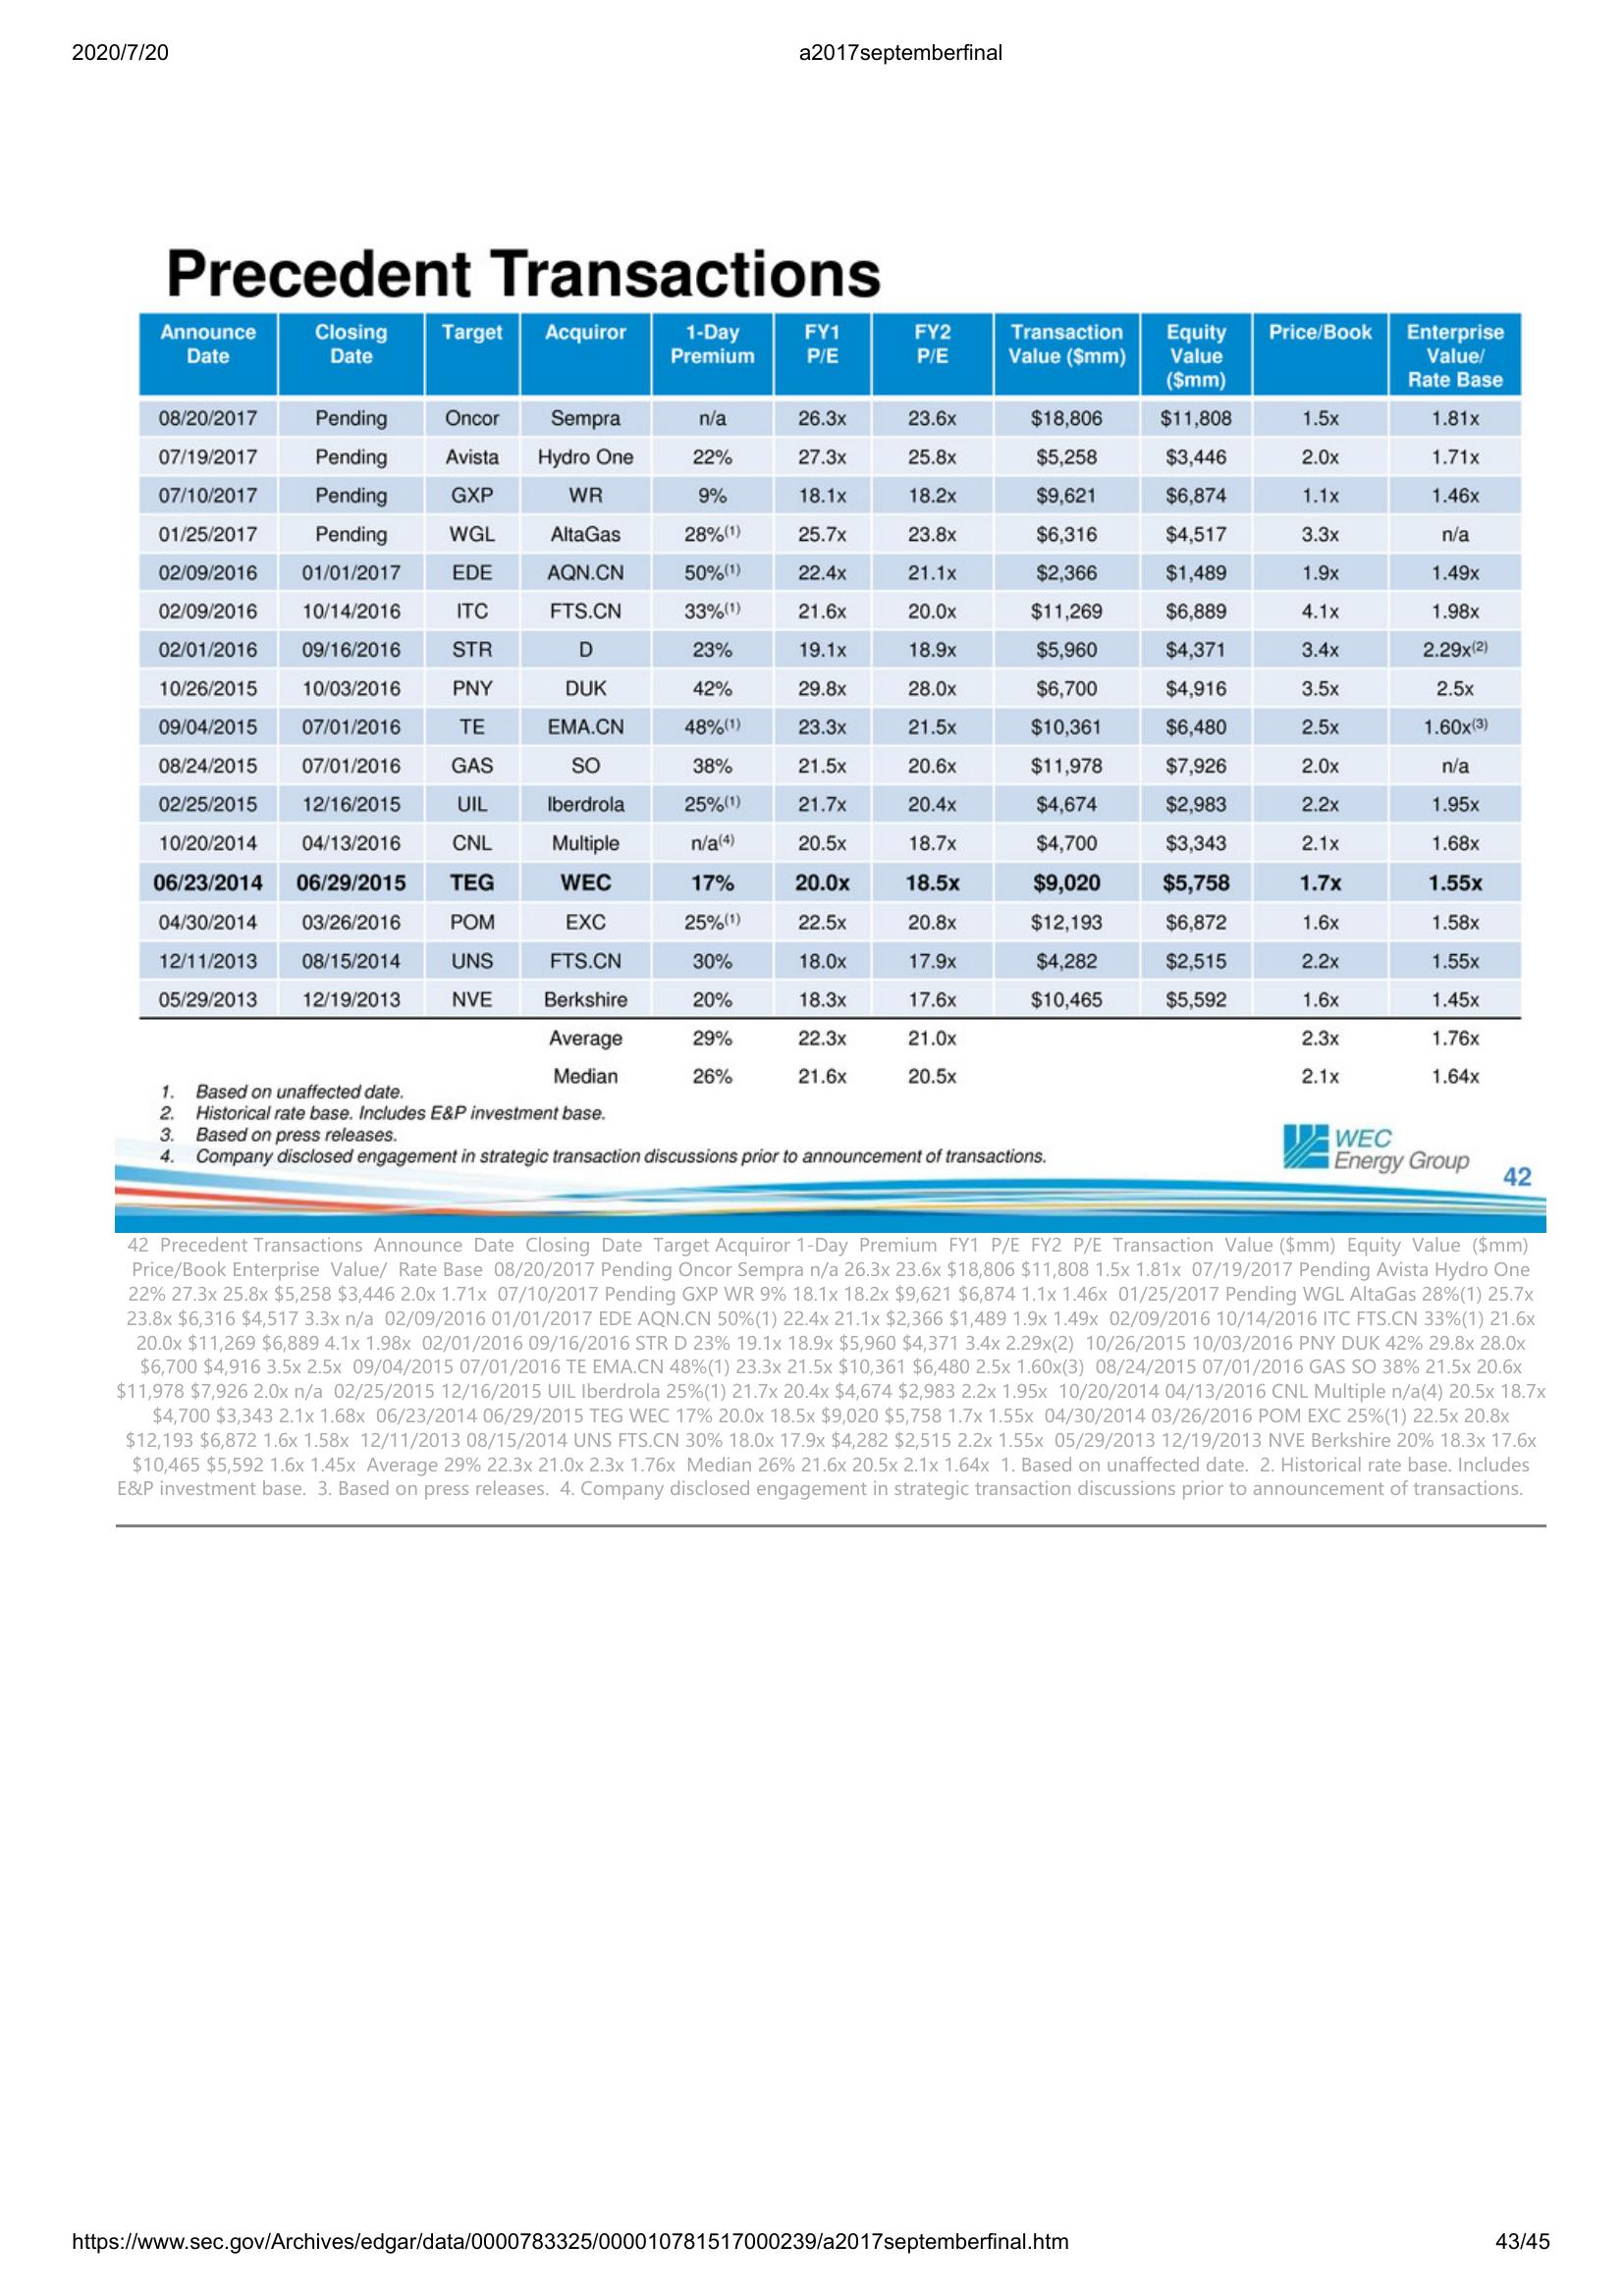table: (133, 307, 1528, 1029)
